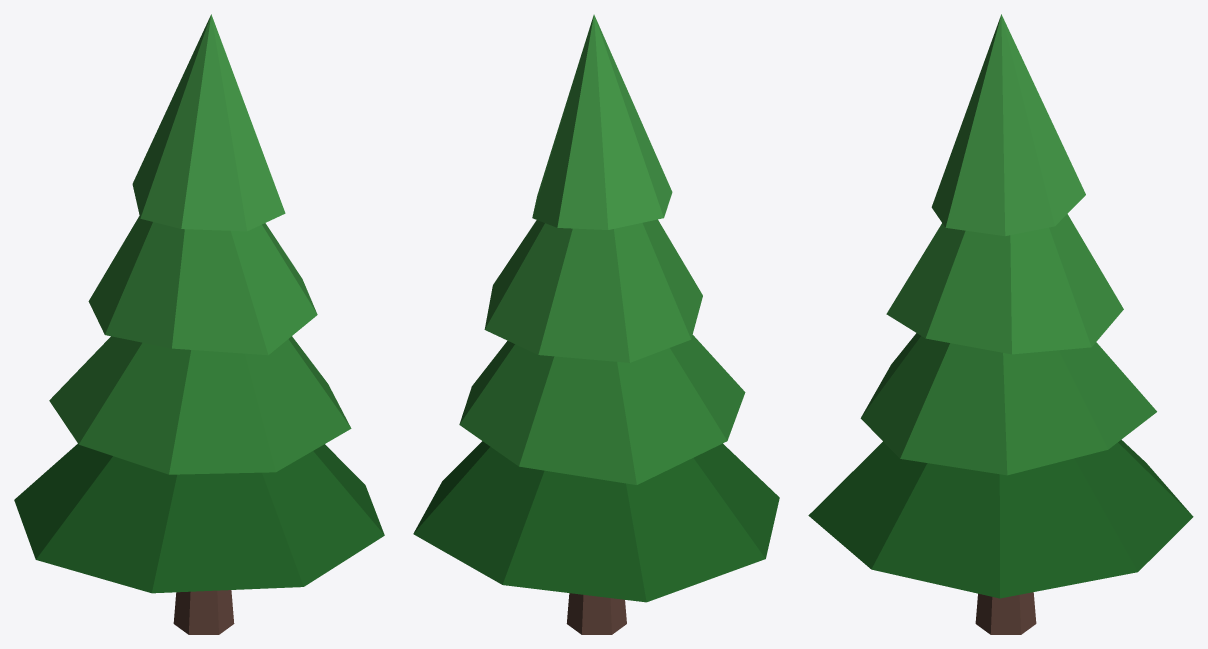
File: pine.glb
3 renders of one model, left to right at view 1: azimuth 30°, elevation 25°; view 2: azimuth 150°, elevation 25°; view 3: azimuth 270°, elevation 25°, orthographic.
Visible parts, largest first — view 1: pine; view 2: pine; view 3: pine.
Boxes of the visible parts, bbox=[...] form: pine: bbox=[14, 14, 384, 634]; pine: bbox=[413, 14, 779, 634]; pine: bbox=[808, 14, 1193, 634].
Size of the model in its own units: 2 by 3.56 by 2.03.
